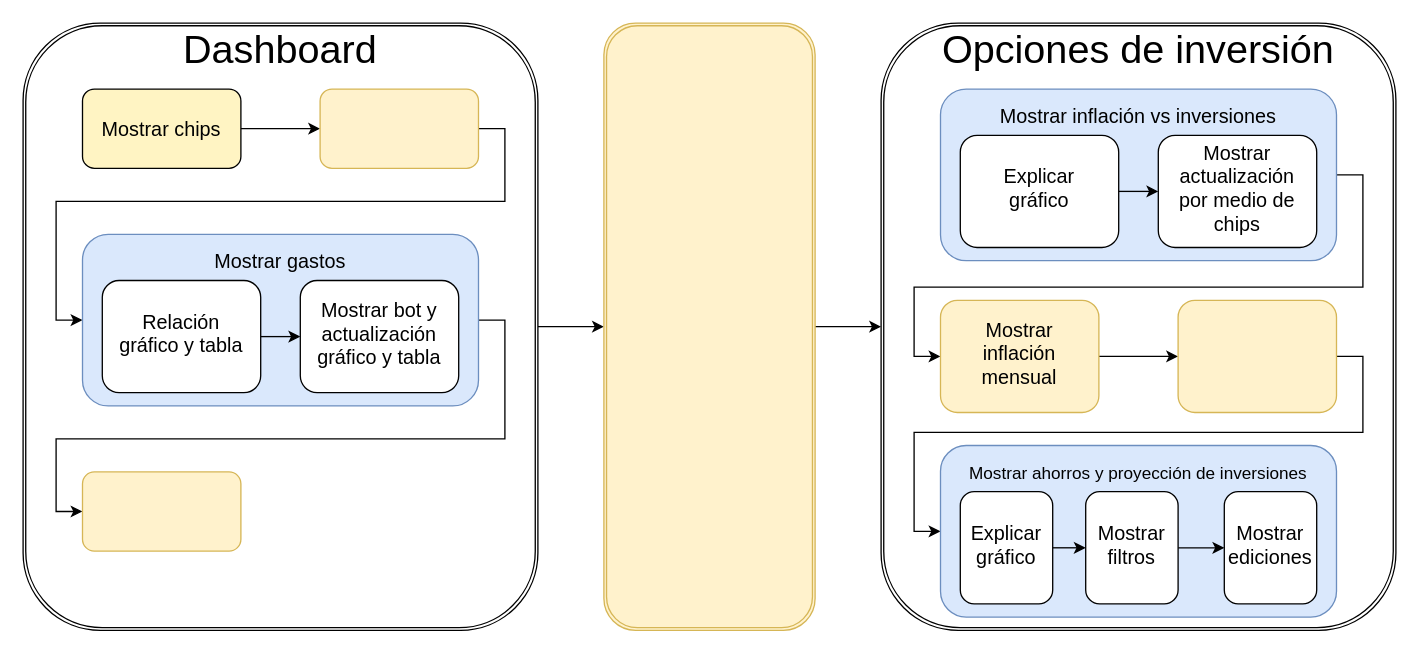
Image size: 1419x653. Some labels were removed from this diagram. Here are the shapes that lost their labels. From the top down, the centre of each, then its label:
At (398,128): "Mostrar gastos e ingresos".
At (709,326): "Simulador plazo fijo".
At (1256,355): "Mostrar compra de dolares".
At (161,511): "Mostrar plazos fijos".
